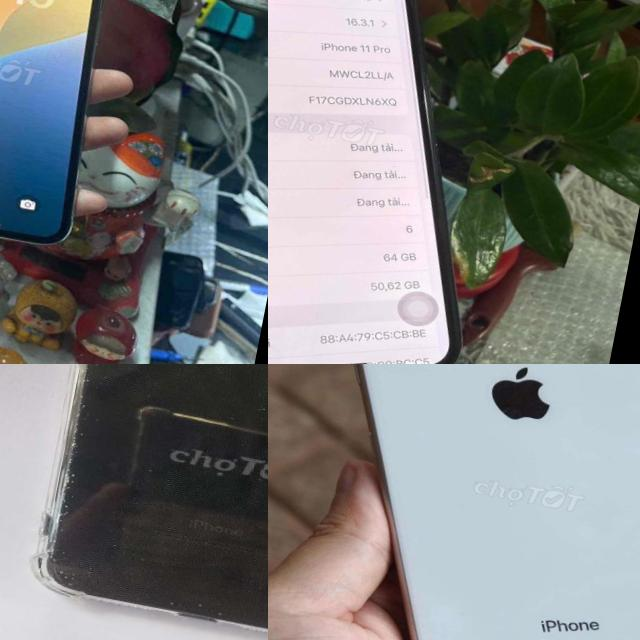gen_11: (268, 0, 542, 364)
gen_7_8: (268, 364, 640, 640), (3, 364, 268, 640)
gen_x_xs: (0, 0, 136, 259)
scratch: (21, 364, 146, 593), (155, 587, 268, 631)
